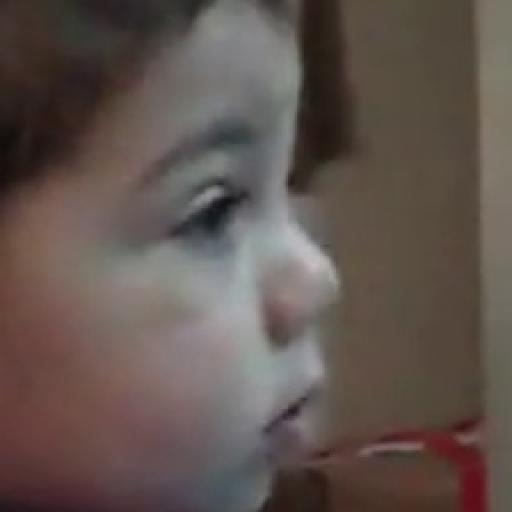Autism: (19, 8, 407, 512)
